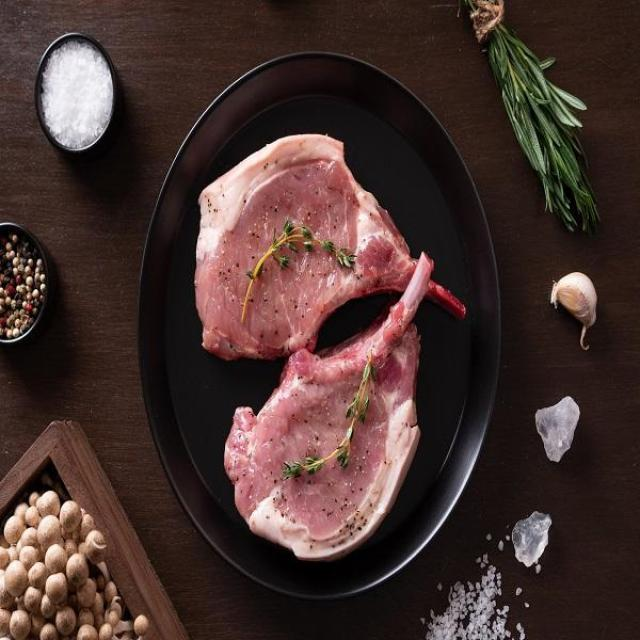pork: (112, 55, 511, 588)
